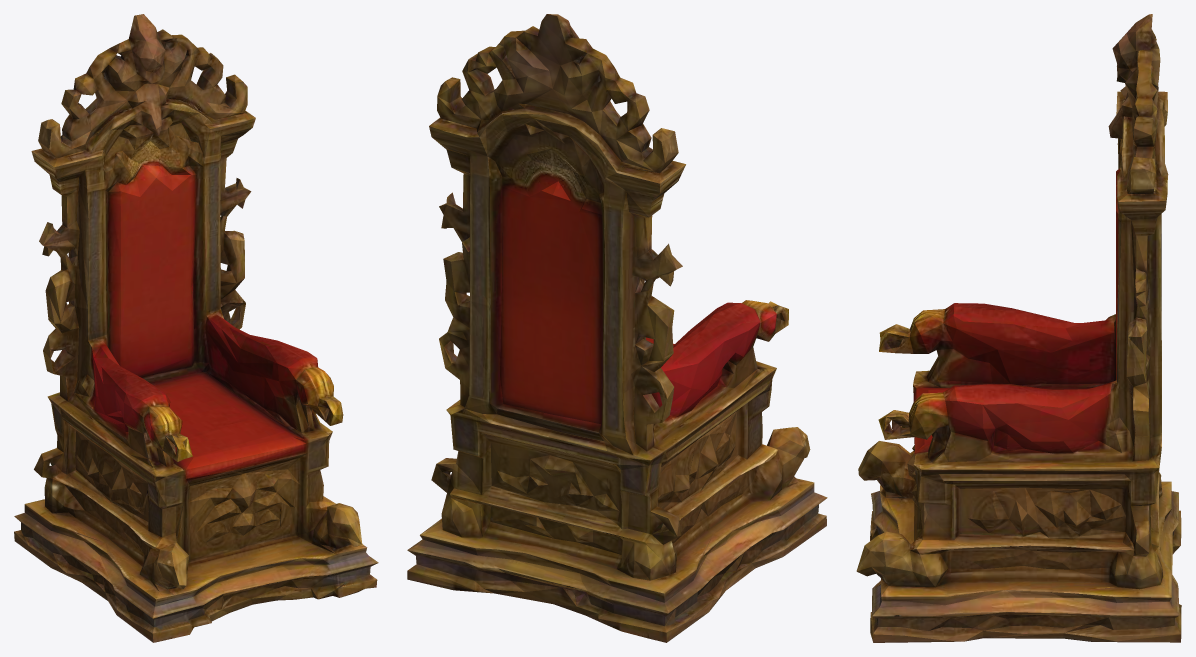
Rendered from throne_gold_red_lod0.glb.
3 renders of one model, left to right at view 1: azimuth 30°, elevation 25°; view 2: azimuth 150°, elevation 25°; view 3: azimuth 270°, elevation 25°, orthographic. The views are drawn at different scales.
Parts seen in each view (by area): view 1: throne_gold_red_lod0; view 2: throne_gold_red_lod0; view 3: throne_gold_red_lod0.
Part boxes in pixels (x1,y1,x2,y2): throne_gold_red_lod0: (14,14,378,642); throne_gold_red_lod0: (407,14,827,642); throne_gold_red_lod0: (856,14,1181,642).
Bounding box in the file's own units: 0.8342 × 1.79 × 0.9306.
1 material, 1 textured.
